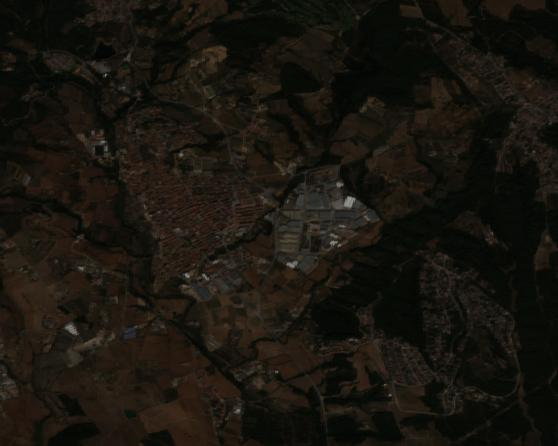Agricola: (0, 297, 309, 446), (0, 139, 112, 314), (198, 266, 322, 355)
Industria: (257, 155, 374, 271)
Poblacion: (64, 90, 260, 284), (357, 224, 527, 446)
